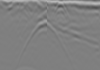hyperbola: (18, 17, 76, 63)
